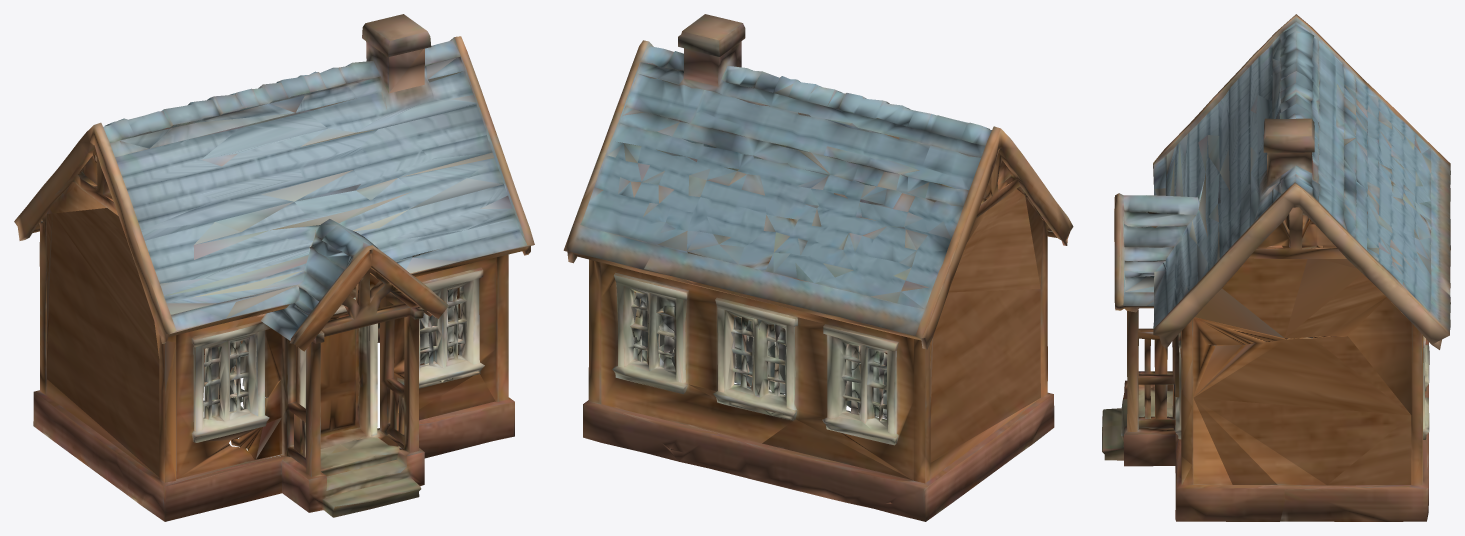
Rendered from sc-home-common.glb.
The picture shows the model from 3 angles, left to right: view 1: azimuth 30°, elevation 25°; view 2: azimuth 150°, elevation 25°; view 3: azimuth 270°, elevation 25°; orthographic projection. The views are drawn at different scales.
Visible parts, largest first — view 1: geometry_0; view 2: geometry_0; view 3: geometry_0.
Boxes of the visible parts, left/top/right/bottom form: geometry_0: left=14, top=14, right=534, bottom=521; geometry_0: left=563, top=14, right=1073, bottom=521; geometry_0: left=1102, top=14, right=1450, bottom=521.
Bounding box in the file's own units: 1 × 0.9992 × 0.8594.
1 material, 1 textured.
